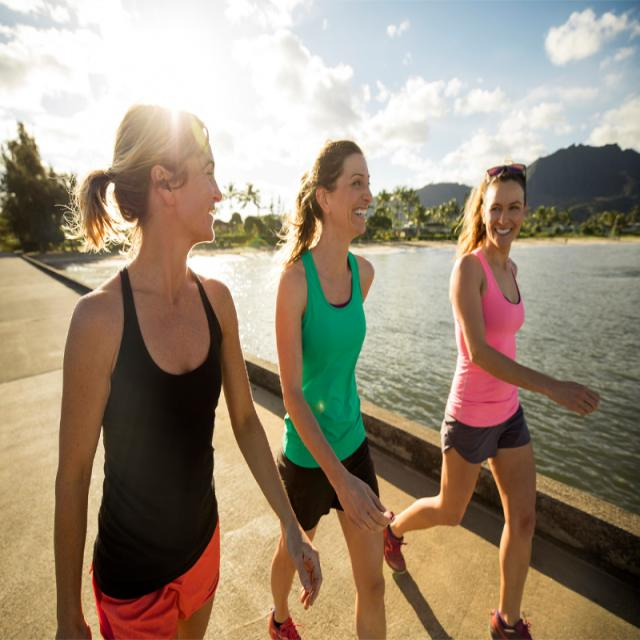Person: (52, 104, 324, 640), (385, 160, 599, 640), (268, 136, 392, 640)
